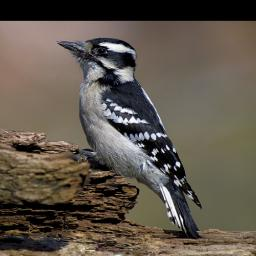Woodpecker: (56, 34, 203, 241)
